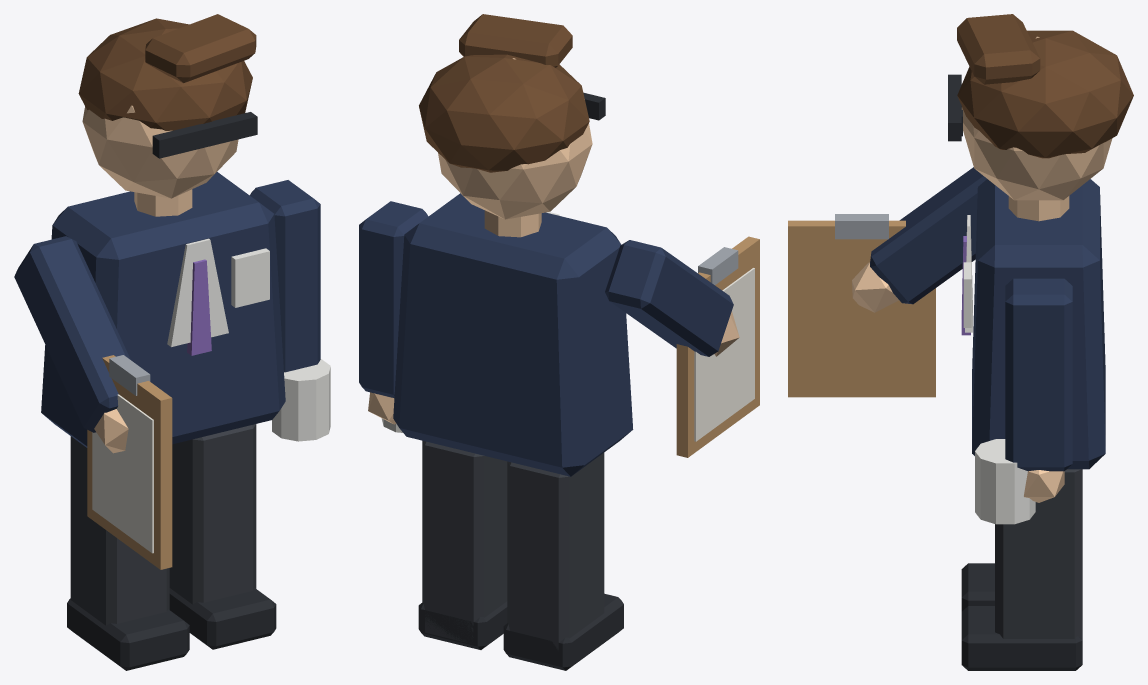
File: linemanager.glb
The picture shows the model from 3 angles, left to right: view 1: azimuth 30°, elevation 25°; view 2: azimuth 150°, elevation 25°; view 3: azimuth 270°, elevation 25°; orthographic projection. The views are drawn at different scales.
Visible parts, largest first — view 1: Body, ArmR, LegL, LegR, ArmL, Props; view 2: Body, ArmR, LegR, LegL, ArmL; view 3: Body, ArmR, ArmL, LegL, Props, LegR.
Part boxes in pixels (x1,y1,x2,y2): Body: (41, 14, 285, 447); ArmR: (14, 236, 172, 569); LegL: (169, 424, 276, 649); LegR: (67, 436, 189, 670); ArmL: (250, 180, 330, 441); Props: (152, 112, 269, 355); Body: (393, 14, 633, 476); ArmR: (605, 236, 759, 457); LegR: (503, 453, 623, 670); LegL: (418, 440, 507, 649); ArmL: (359, 201, 428, 432); Body: (957, 14, 1133, 469); ArmR: (788, 167, 986, 397); ArmL: (975, 278, 1072, 524); LegL: (961, 469, 1082, 670); Props: (948, 74, 972, 335); LegR: (961, 563, 994, 611).
Size of the model in its own units: 0.7546 by 1.5 by 0.7712.
